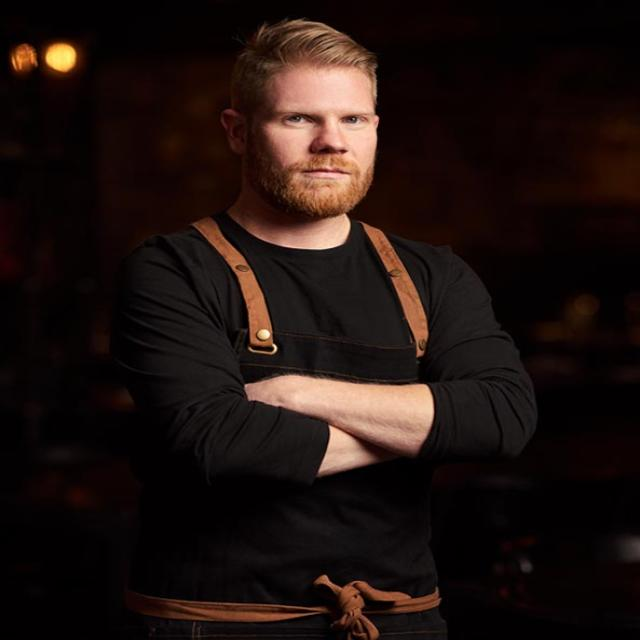mobile_phonerotation: (110, 17, 539, 637)
